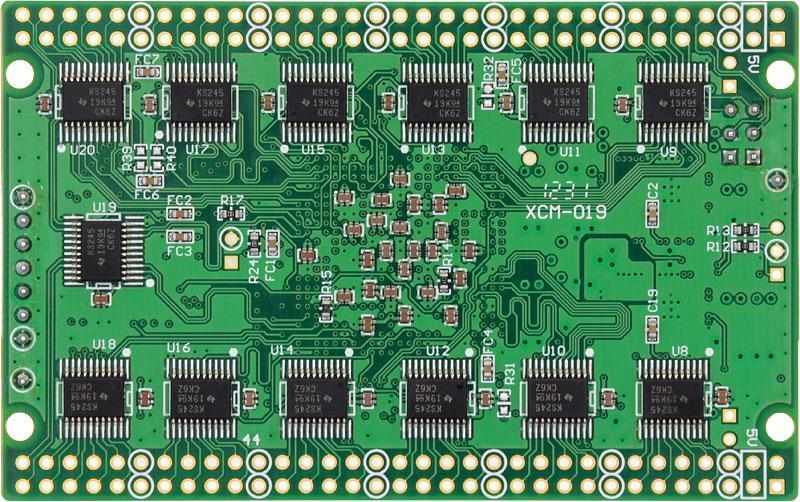Capacitor Jumper: (134, 172, 165, 188), (165, 229, 194, 245), (645, 200, 660, 229), (164, 208, 196, 221), (645, 317, 660, 344), (267, 230, 280, 258), (481, 356, 494, 383), (135, 67, 160, 80), (496, 61, 508, 87)
Connector: (12, 4, 790, 52), (13, 450, 791, 498), (763, 218, 789, 287), (217, 225, 244, 273), (718, 406, 740, 449), (720, 53, 740, 98)
IC: (400, 360, 476, 439), (166, 62, 238, 144), (524, 63, 597, 143), (638, 62, 709, 143), (524, 357, 593, 439), (280, 65, 352, 143), (640, 361, 710, 439), (61, 358, 129, 438), (279, 360, 349, 437), (65, 217, 141, 287), (167, 361, 235, 439), (61, 65, 128, 144), (405, 63, 471, 142)
Pads: (495, 388, 513, 417), (480, 82, 497, 111), (134, 143, 147, 171), (151, 145, 163, 170)
Pins: (9, 180, 38, 353), (721, 99, 764, 172)
Resistor Jumper: (733, 224, 761, 239), (734, 240, 762, 254), (247, 231, 261, 258), (217, 208, 245, 221), (320, 295, 333, 323), (439, 267, 448, 297)
Test Point: (8, 364, 37, 394), (763, 166, 790, 194), (520, 148, 538, 168)
Unknown Unlabeled: (243, 386, 259, 411), (136, 389, 155, 409), (478, 390, 495, 411), (361, 313, 376, 336), (379, 240, 394, 261), (361, 250, 376, 271), (602, 387, 617, 408), (389, 220, 411, 234), (446, 185, 466, 200), (408, 194, 422, 215), (381, 286, 403, 299), (397, 261, 412, 280), (361, 390, 376, 409), (261, 92, 274, 113), (297, 249, 318, 262), (500, 94, 514, 113), (335, 191, 354, 205), (92, 294, 111, 308), (464, 241, 477, 261), (455, 270, 468, 290), (38, 92, 50, 113), (617, 96, 630, 115), (434, 195, 447, 214), (426, 242, 439, 261), (344, 224, 364, 236), (435, 224, 447, 244), (408, 242, 422, 259), (445, 307, 459, 324), (381, 95, 394, 113), (391, 173, 410, 185), (418, 288, 438, 299), (146, 95, 157, 114), (336, 292, 355, 303), (717, 389, 728, 408), (370, 214, 387, 226), (399, 312, 411, 329), (373, 195, 391, 206), (366, 281, 376, 300)
